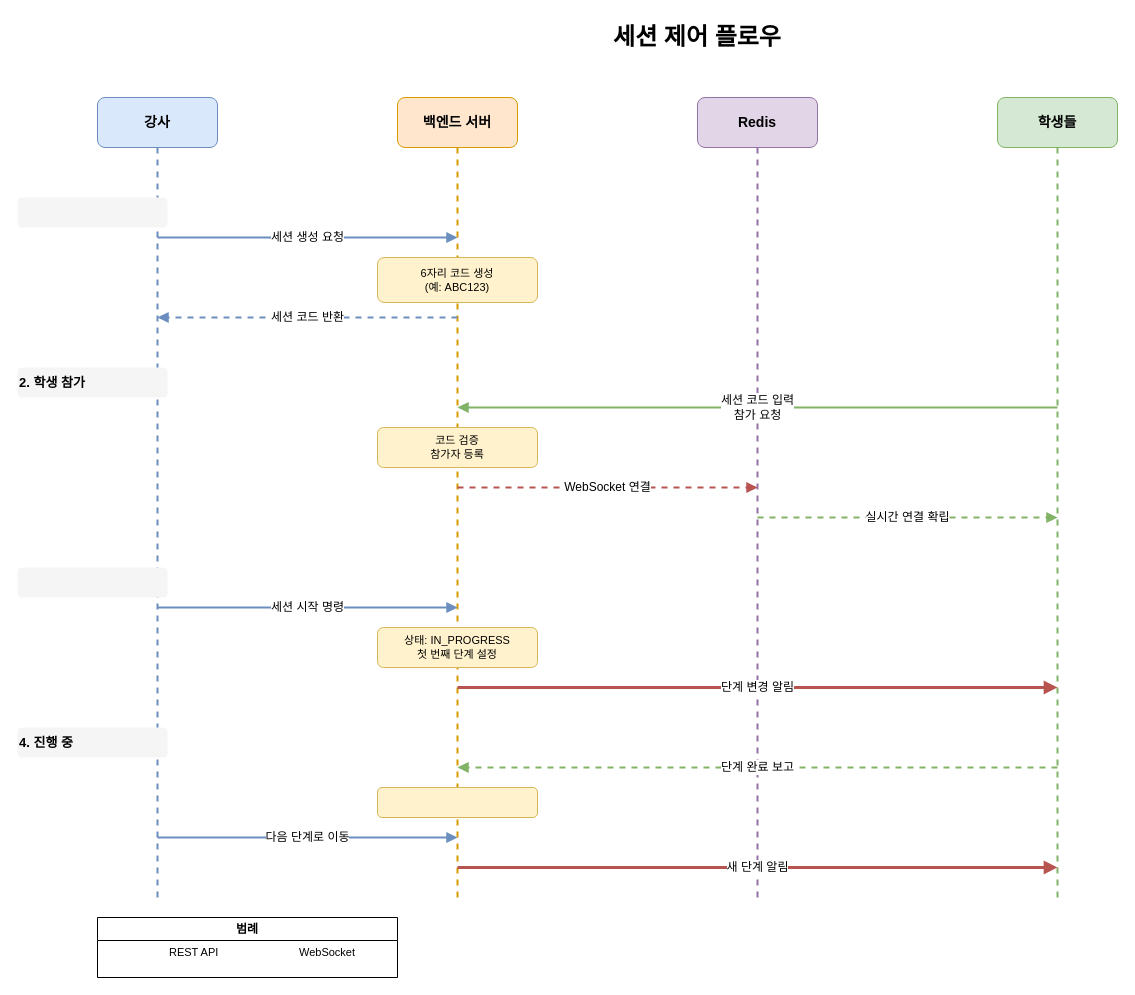
The diagram is 1135 pixels wide and 995 high, and some of its shapes have lost their labels. Each missing label, with the centre of its shape:
1. 세션 생성: (x=92, y=212)
3. 세션 시작: (x=92, y=582)
진도 업데이트: (x=457, y=802)
